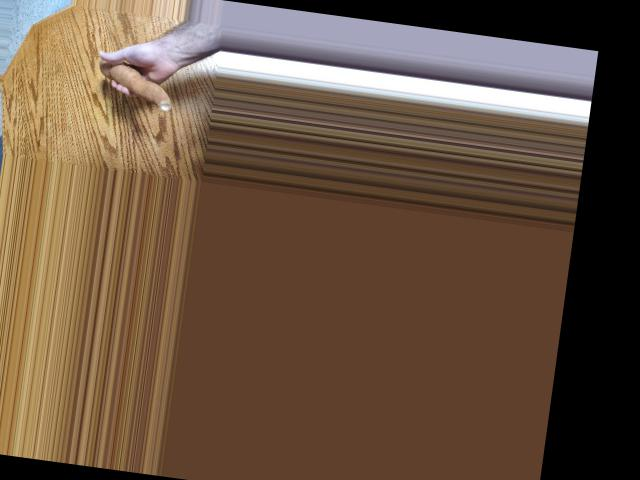sweet_potato: (98, 60, 179, 112)
